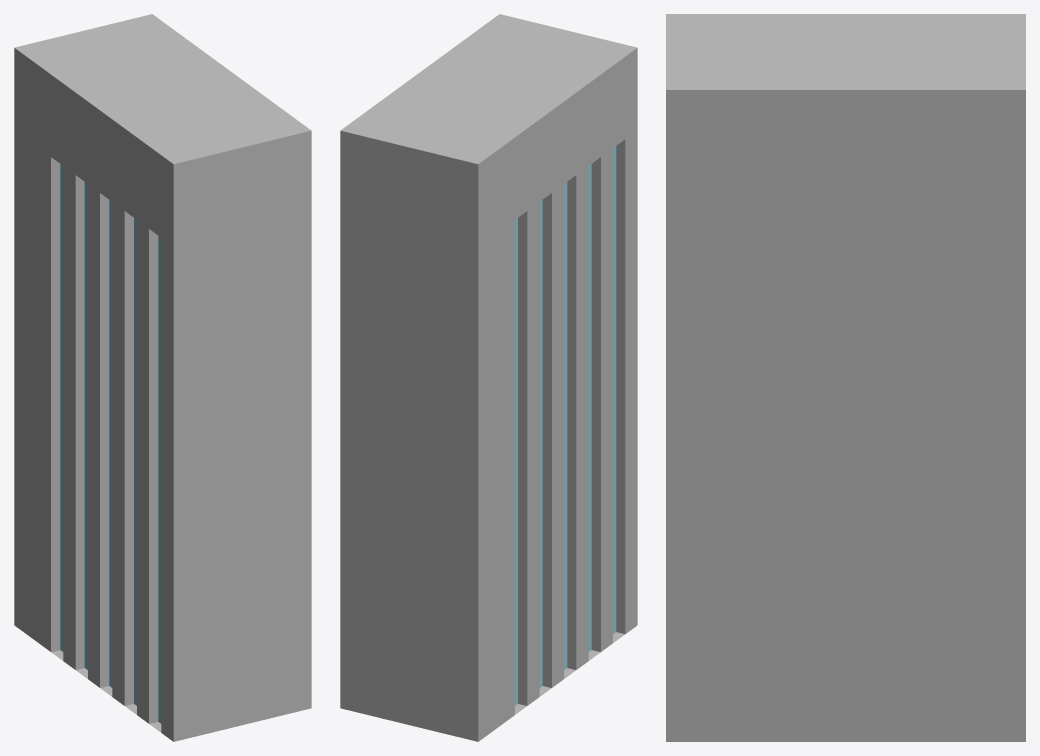
3 renders of one model, left to right at view 1: azimuth 30°, elevation 25°; view 2: azimuth 150°, elevation 25°; view 3: azimuth 270°, elevation 25°, orthographic. The views are drawn at different scales.
Visible parts, largest first — view 1: 建築2; view 2: 建築2; view 3: 建築2.
Boxes of the visible parts, <box> form: 建築2: <box>14,14,311,741</box>; 建築2: <box>340,14,637,741</box>; 建築2: <box>666,14,1025,741</box>.
Bounding box in the file's own units: 75 × 300 × 150.
Materials: 1 (1 with a texture image).
